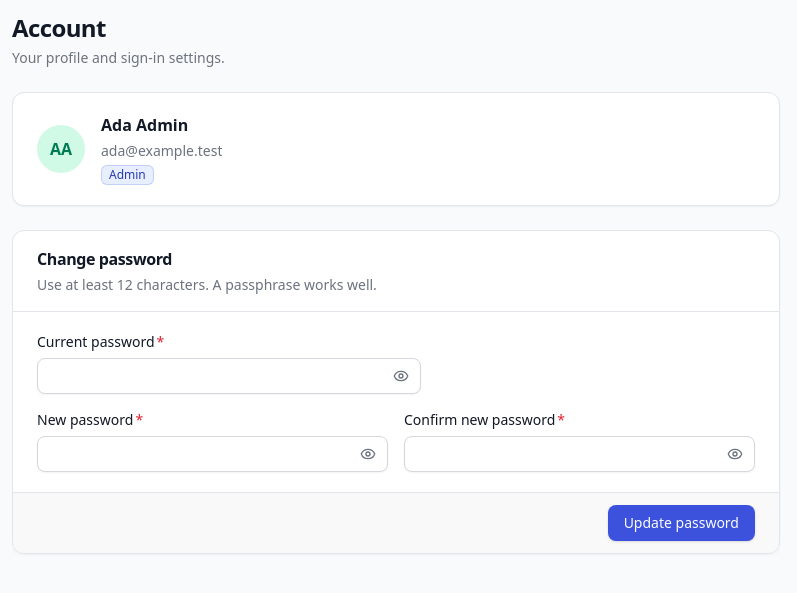
Test: AccountPage › submits and flags an incorrect current password
Type "wrong-password-1" into the password field labelled "Current password*" at [229, 376], box [37,358,421,394]
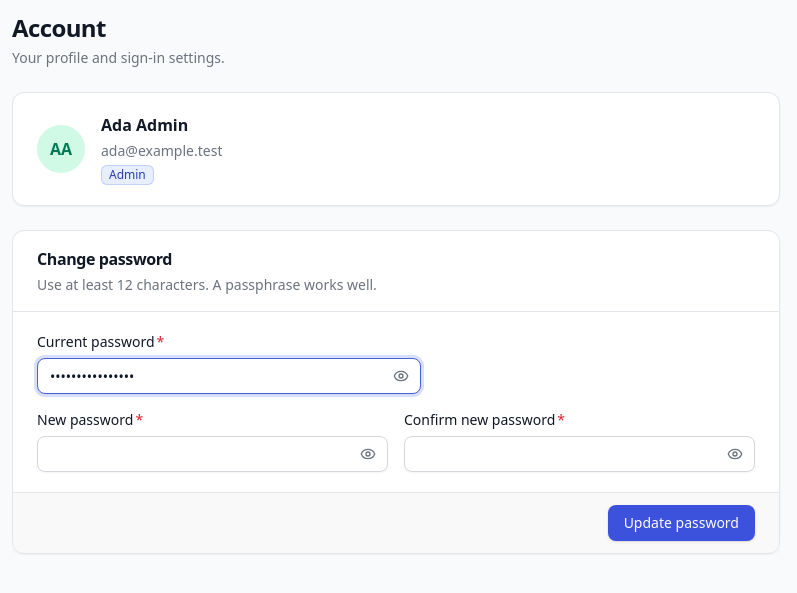
Type "new-password-456" into the password field labelled "New password*" at [212, 454], box [37,436,388,472]
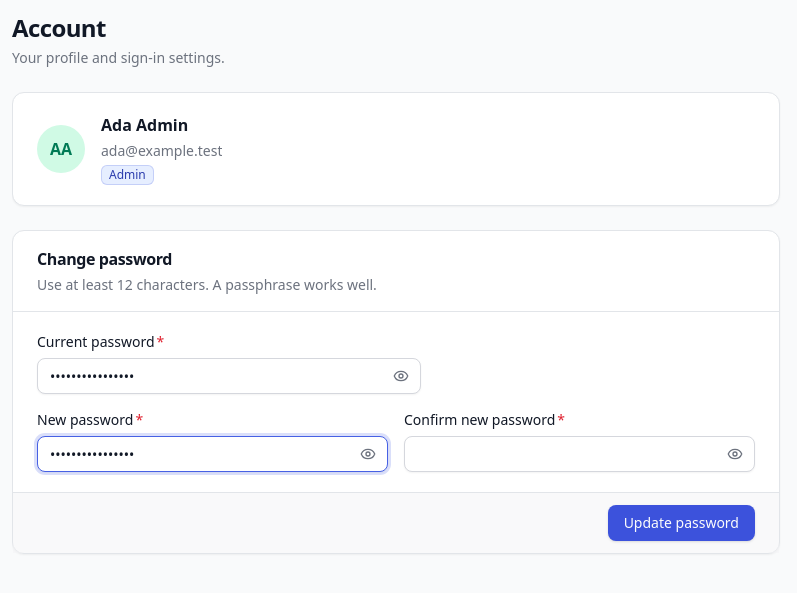
Type "new-password-456" into the password field labelled "Confirm new password*" at [580, 454], box [404,436,755,472]
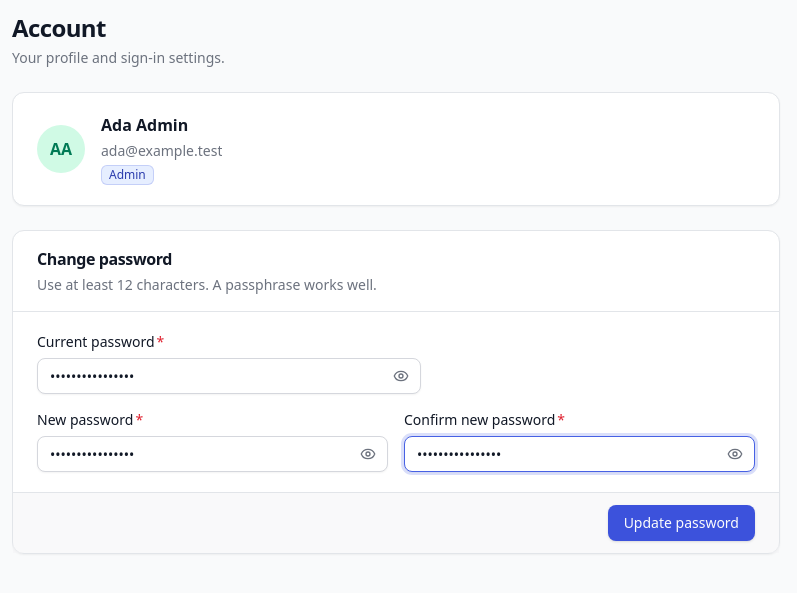
Click the button "Update password" at [681, 523], box [608,505,755,541]
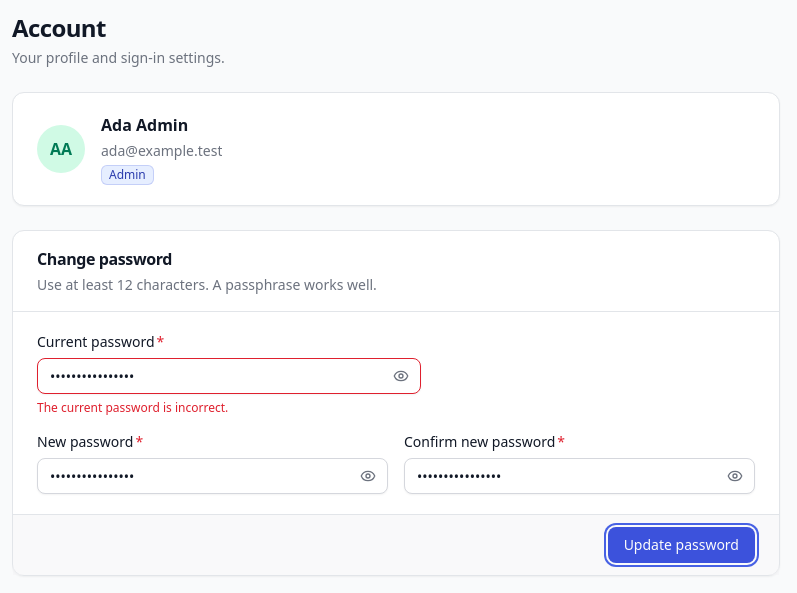
Now the text "The current password is incorrect." is shown, box [37,399,228,416]
